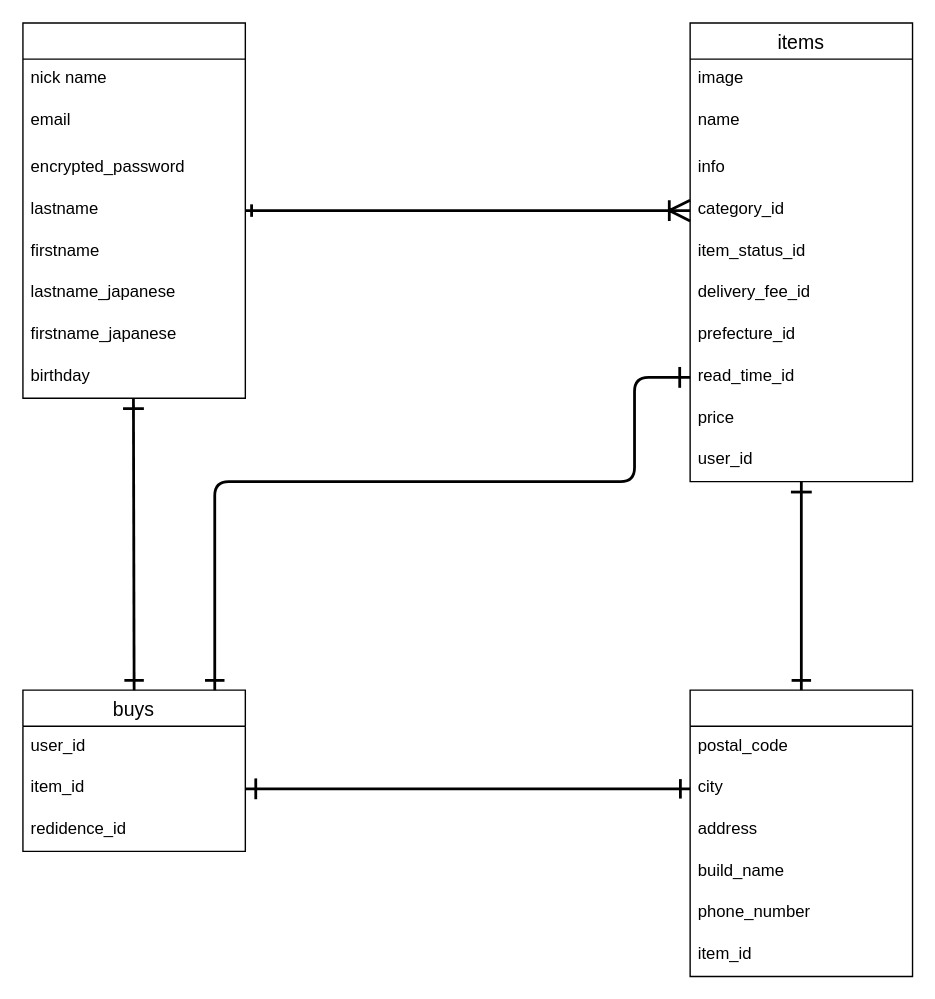
Some shapes in this 935 by 999 pixel diagram are drawn without their labels. Here are the shapes that lost their labels. From the top down, the box of each, then its label:
(22, 22, 245, 398): users
(689, 689, 913, 976): residences
